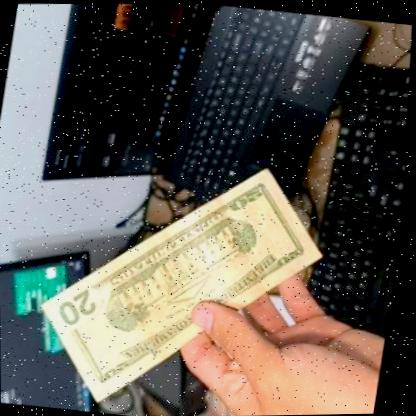dollar_back: (23, 141, 341, 416)
